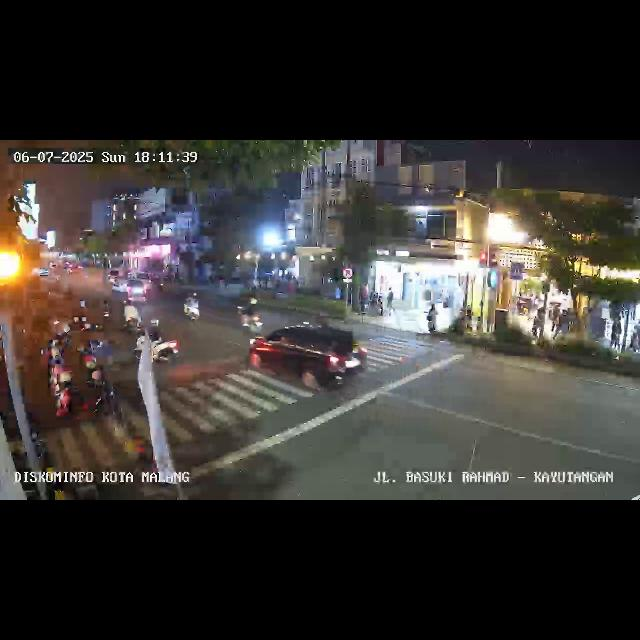car: (250, 322, 364, 396), (128, 280, 154, 304)
motorcycle: (134, 318, 180, 367), (234, 294, 262, 334), (182, 290, 202, 324), (122, 298, 140, 334), (73, 298, 91, 332)
person: (534, 306, 546, 342), (426, 302, 438, 336), (559, 306, 571, 338), (549, 302, 559, 340), (632, 321, 640, 359), (386, 286, 396, 316), (610, 322, 620, 351), (359, 284, 368, 312), (376, 286, 384, 316)
